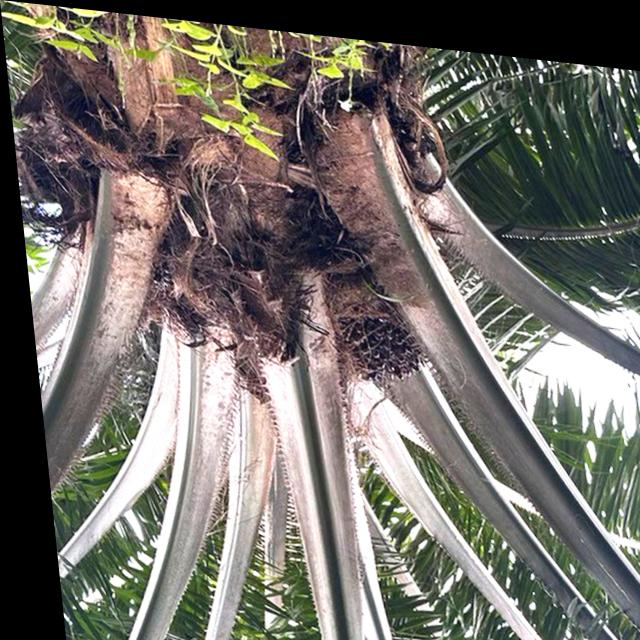almost: (317, 291, 433, 391)
